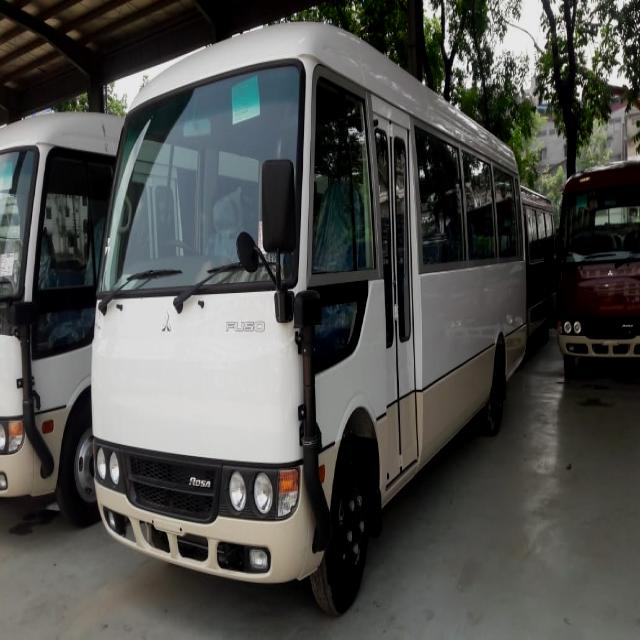bus: (81, 1, 539, 640), (1, 97, 103, 545), (548, 136, 640, 382)
